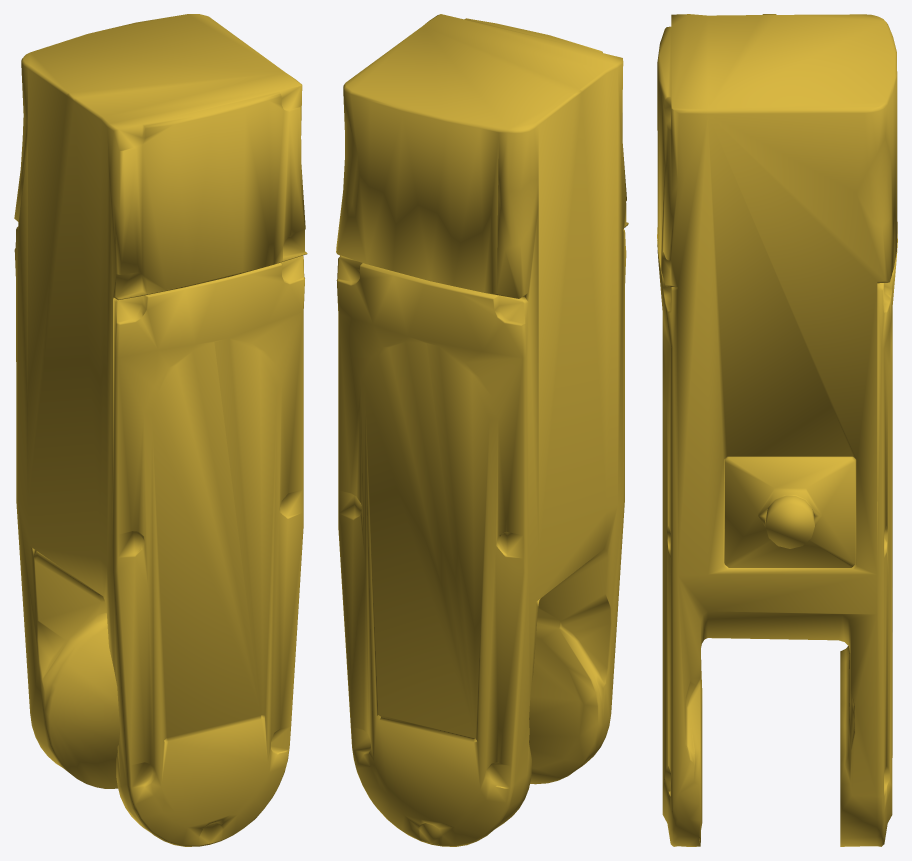
The picture shows the model from 3 angles, left to right: view 1: azimuth 30°, elevation 25°; view 2: azimuth 150°, elevation 25°; view 3: azimuth 270°, elevation 25°; orthographic projection. The views are drawn at different scales.
Bounding box in the file's own units: 114 × 373 × 105.
